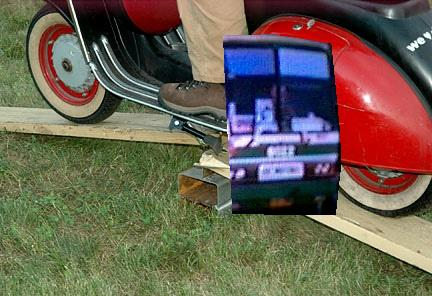tampered: (224, 35, 341, 215)
